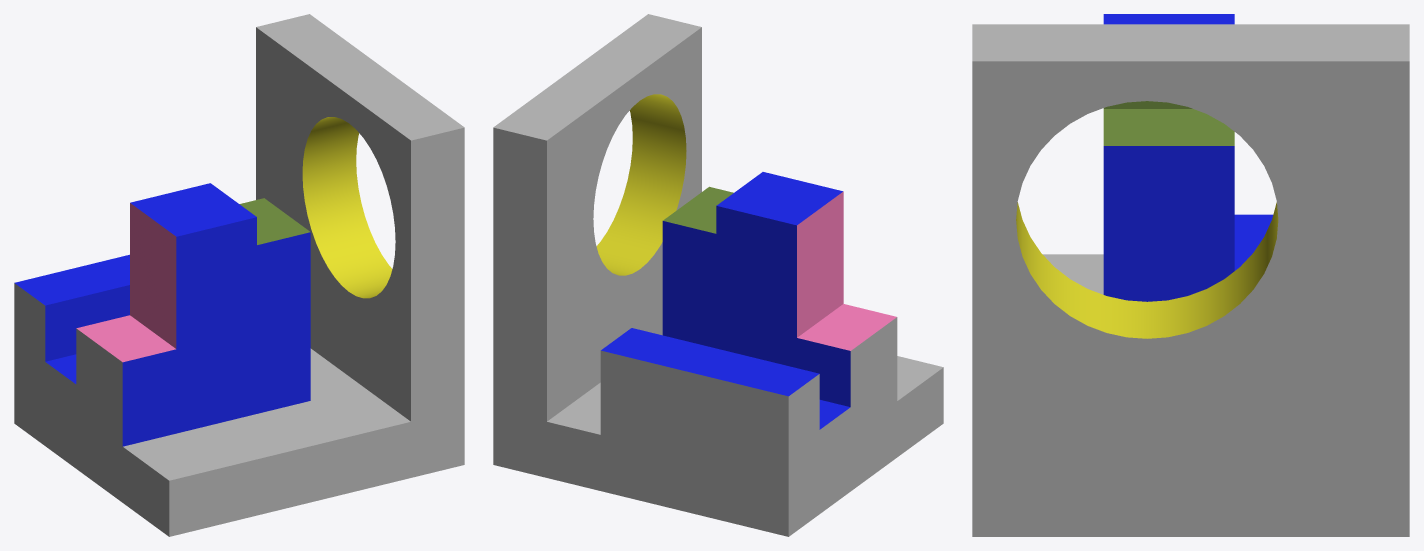
3 renders of one model, left to right at view 1: azimuth 30°, elevation 25°; view 2: azimuth 150°, elevation 25°; view 3: azimuth 270°, elevation 25°, orthographic. The views are drawn at different scales.
Visible parts, largest first — view 1: Solid1; view 2: Solid1; view 3: Solid1.
Part boxes in pixels (x1,y1,x2,y2): Solid1: [14, 14, 464, 536]; Solid1: [493, 14, 943, 536]; Solid1: [972, 14, 1409, 536].
Size of the model in its own units: 0.055 by 0.06 by 0.05.
